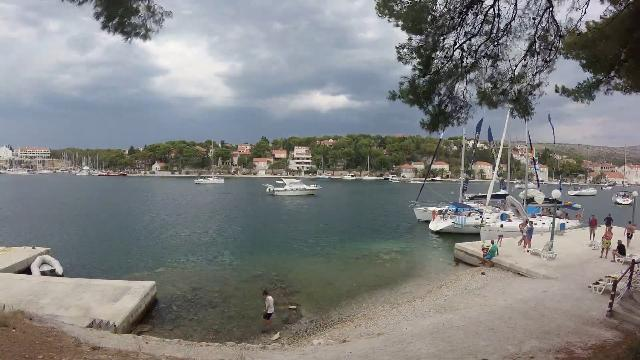Sailboat: (192, 172, 232, 188)
ferry: (258, 174, 326, 198)
